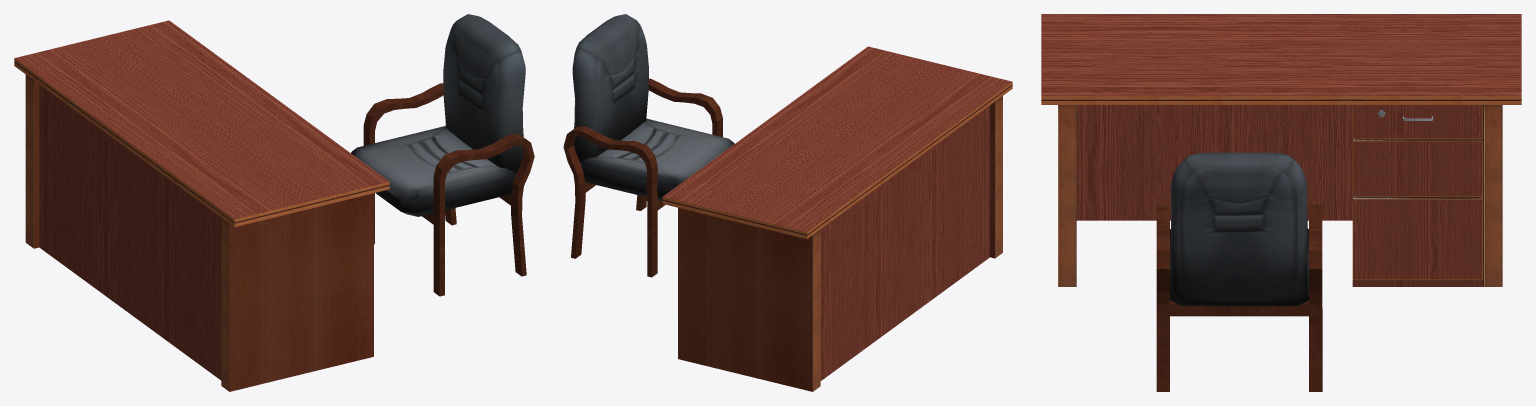
3 views of the same model, side by side, from view 1: azimuth 30°, elevation 25°; view 2: azimuth 150°, elevation 25°; view 3: azimuth 270°, elevation 25° (orthographic). The views are drawn at different scales.
Parts seen in each view (by area): view 1: bgz, yz; view 2: bgz, yz; view 3: bgz, yz.
Boxes of the visible parts, <box> form: bgz: <box>14,20,389,391</box>; yz: <box>351,14,534,296</box>; bgz: <box>662,46,1012,391</box>; yz: <box>563,14,734,277</box>; bgz: <box>1041,14,1521,286</box>; yz: <box>1156,152,1322,391</box>.
Size of the model in its own units: 1.6 by 0.9331 by 1.7.
